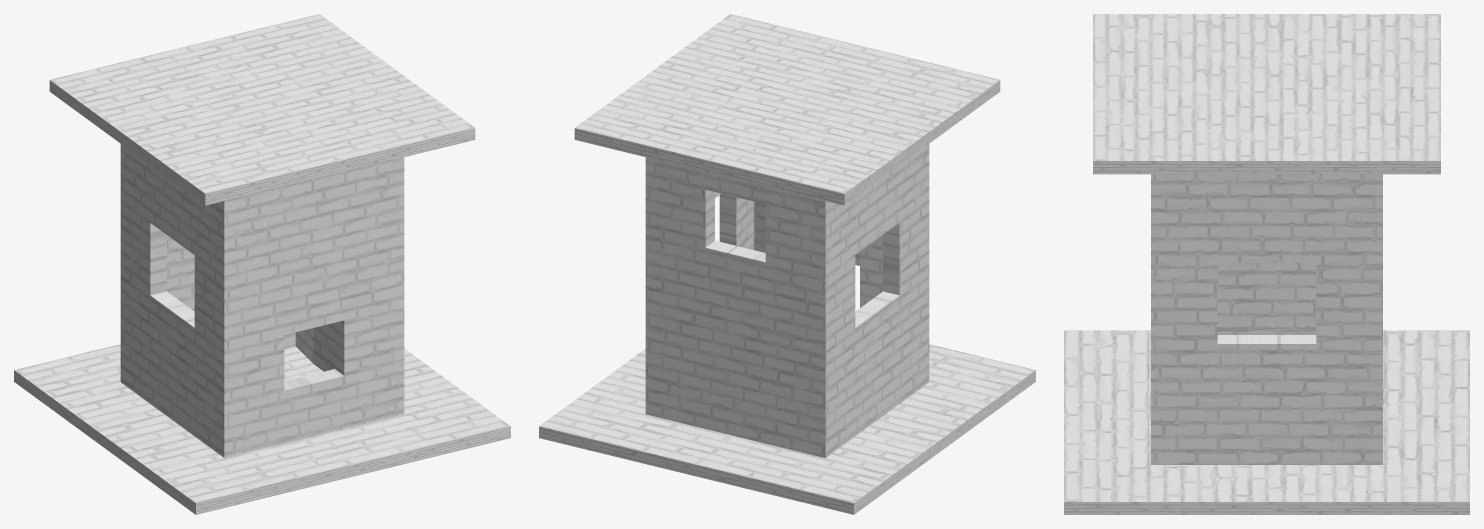
The model's file is Casa 3-1.fbx.
The picture shows the model from 3 angles, left to right: view 1: azimuth 30°, elevation 25°; view 2: azimuth 150°, elevation 25°; view 3: azimuth 270°, elevation 25°; orthographic projection. The views are drawn at different scales.
Visible parts, largest first — view 1: Cubo, Suelo.003, Suelo.002; view 2: Cubo, Suelo.003, Suelo.002; view 3: Cubo, Suelo.003, Suelo.002.
Part boxes in pixels (<box>): Cubo: <box>120,144,404,457</box>; Suelo.003: <box>49,14,475,205</box>; Suelo.002: <box>14,344,510,514</box>; Cubo: <box>645,144,929,457</box>; Suelo.003: <box>574,14,1000,205</box>; Suelo.002: <box>539,344,1035,514</box>; Cubo: <box>1151,174,1382,464</box>; Suelo.003: <box>1093,14,1440,174</box>; Suelo.002: <box>1064,330,1469,514</box>.
Size of the model in its own units: 1400 by 1300 by 1400.
